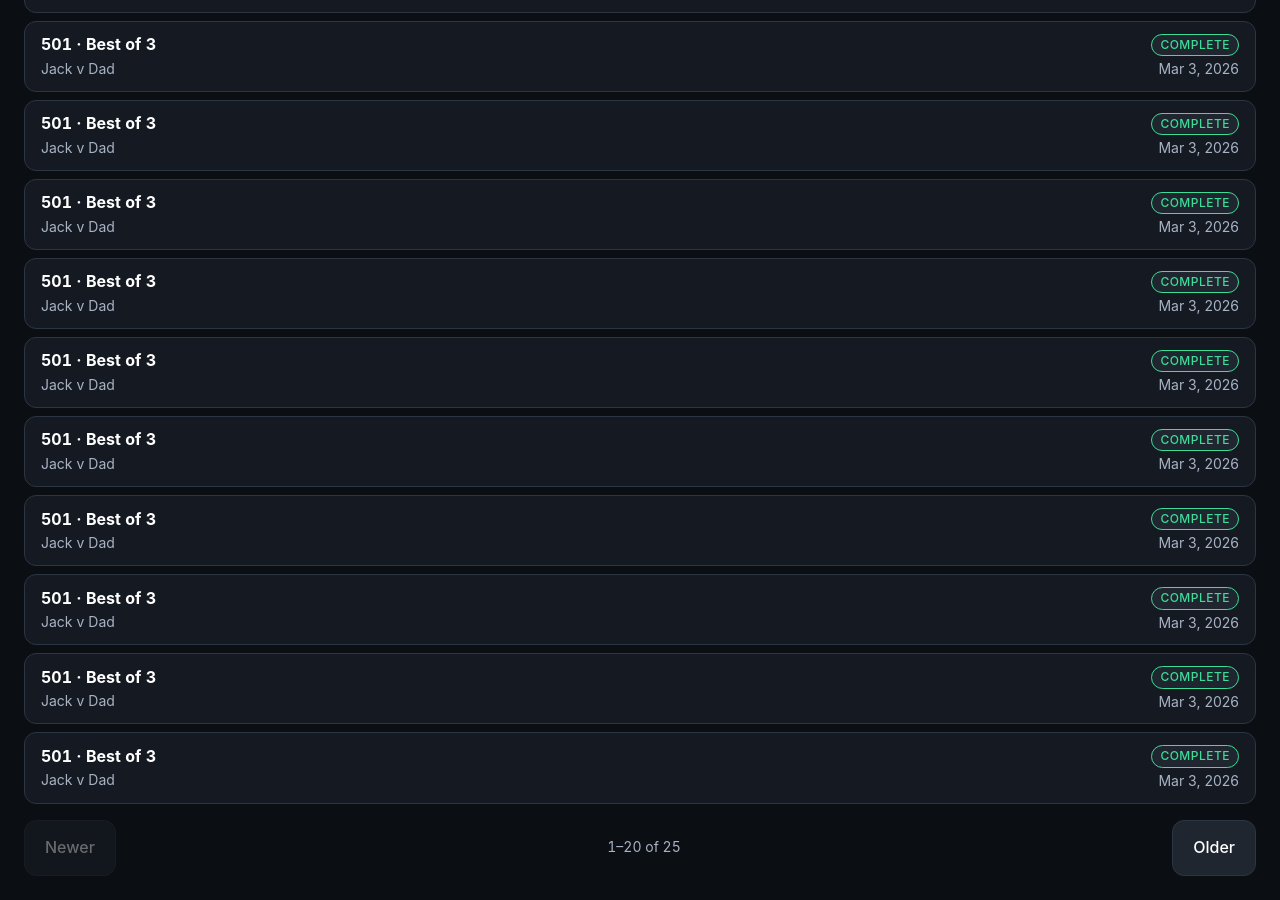
Test: the history list › offers nothing newer on the first page and nothing older on the last
This screenshot has width=1280, height=900.
(page scrolled)
Expected: the text "1–20 of 25" is shown, [607,838,681,857]
Expected: the button "Newer" is disabled, [24,820,116,876]
Click the button "Older" at (1214, 848), box [1172,820,1256,876]
(page scrolled)
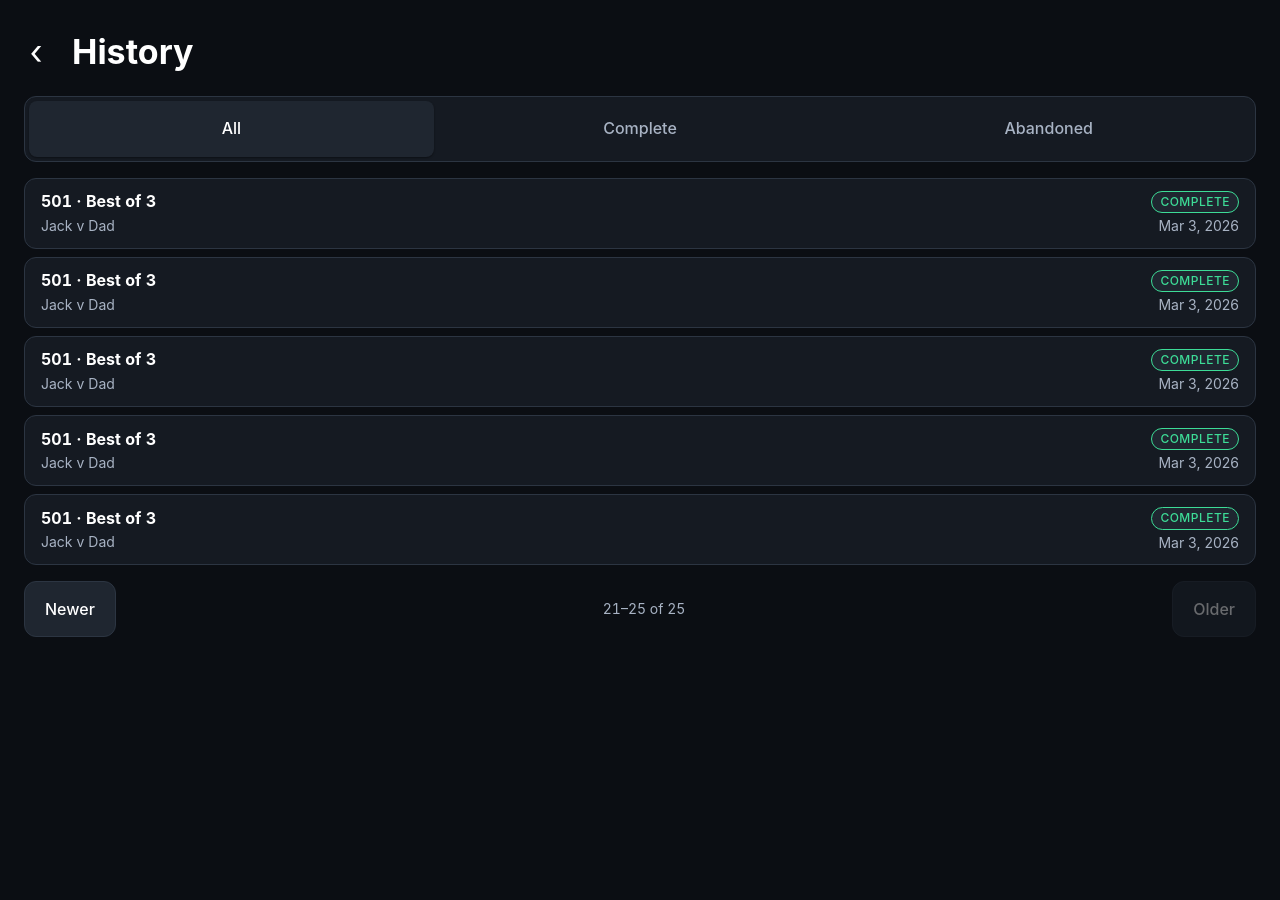
Expected: the text "21–25 of 25" is shown, [603,600,685,619]
Expected: the button "Newer" is enabled, [24,581,116,637]
Expected: the button "Older" is disabled, [1172,581,1256,637]
